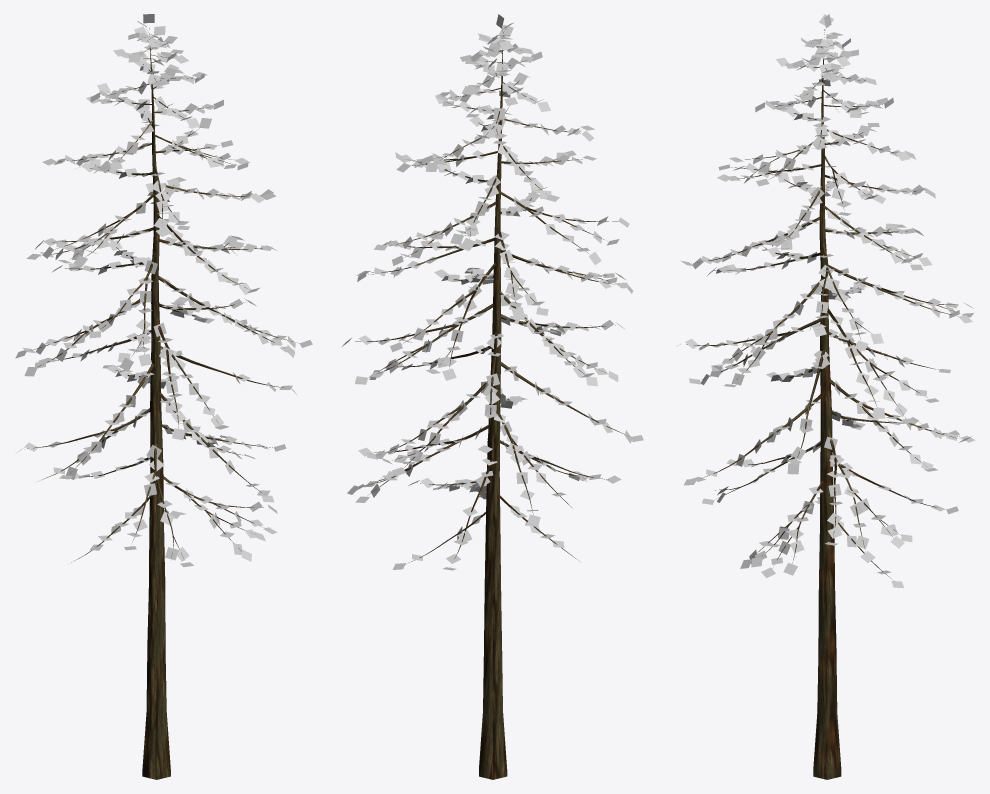
Rendered from PineTreeLOD.fbx.
3 renders of one model, left to right at view 1: azimuth 30°, elevation 25°; view 2: azimuth 150°, elevation 25°; view 3: azimuth 270°, elevation 25°, orthographic.
Parts seen in each view (by area): view 1: leaves_LOD0, Pine_LOD0; view 2: leaves_LOD0, Pine_LOD0; view 3: leaves_LOD0, Pine_LOD0.
Boxes of the visible parts, <box> form: leaves_LOD0: <box>15,14,312,566</box>; Pine_LOD0: <box>27,28,297,779</box>; leaves_LOD0: <box>342,14,643,570</box>; Pine_LOD0: <box>355,29,624,779</box>; leaves_LOD0: <box>678,14,975,587</box>; Pine_LOD0: <box>686,29,959,779</box>.
Size of what is drawn, in the model's own units: 1264 by 3525 by 1287.
